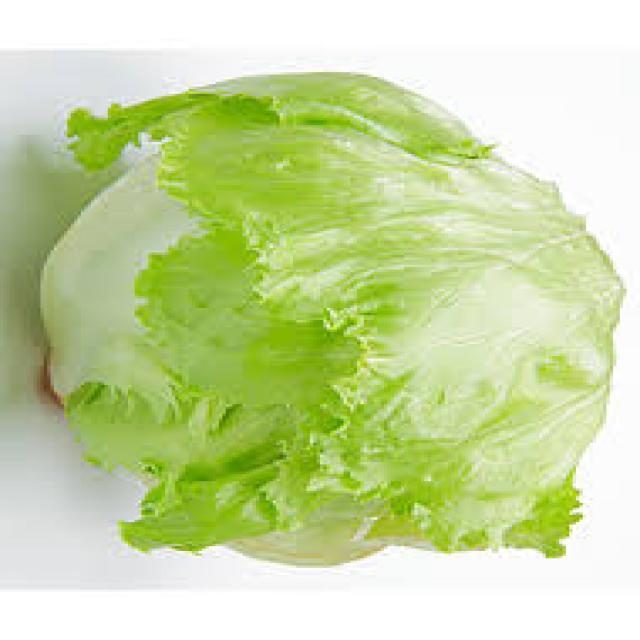Lettuce: (39, 64, 608, 564)
